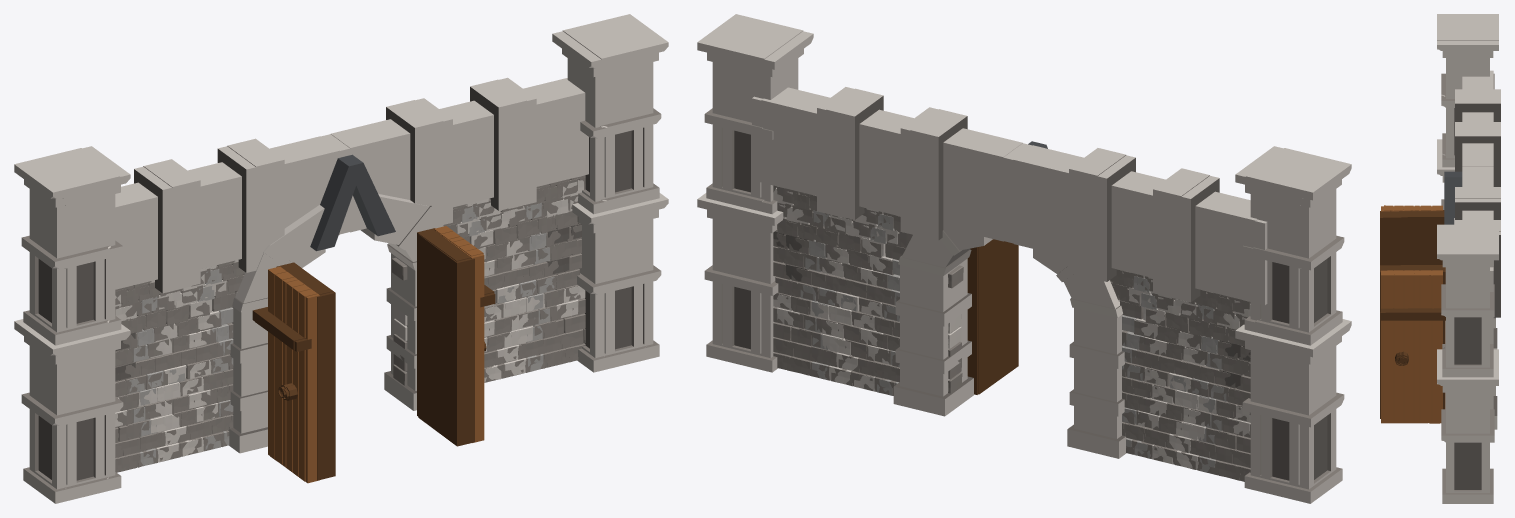
File: OPENGATE.fbx
3 renders of one model, left to right at view 1: azimuth 30°, elevation 25°; view 2: azimuth 150°, elevation 25°; view 3: azimuth 270°, elevation 25°, orthographic. The views are drawn at different scales.
Parts seen in each view (by area): view 1: Cube.642; view 2: Cube.642; view 3: Cube.642.
Part boxes in pixels (x1,y1,x2,y2): Cube.642: (14,14,668,503); Cube.642: (697,14,1351,503); Cube.642: (1380,14,1500,503).
Bounding box in the file's own units: 5472 × 2705 × 1164.
